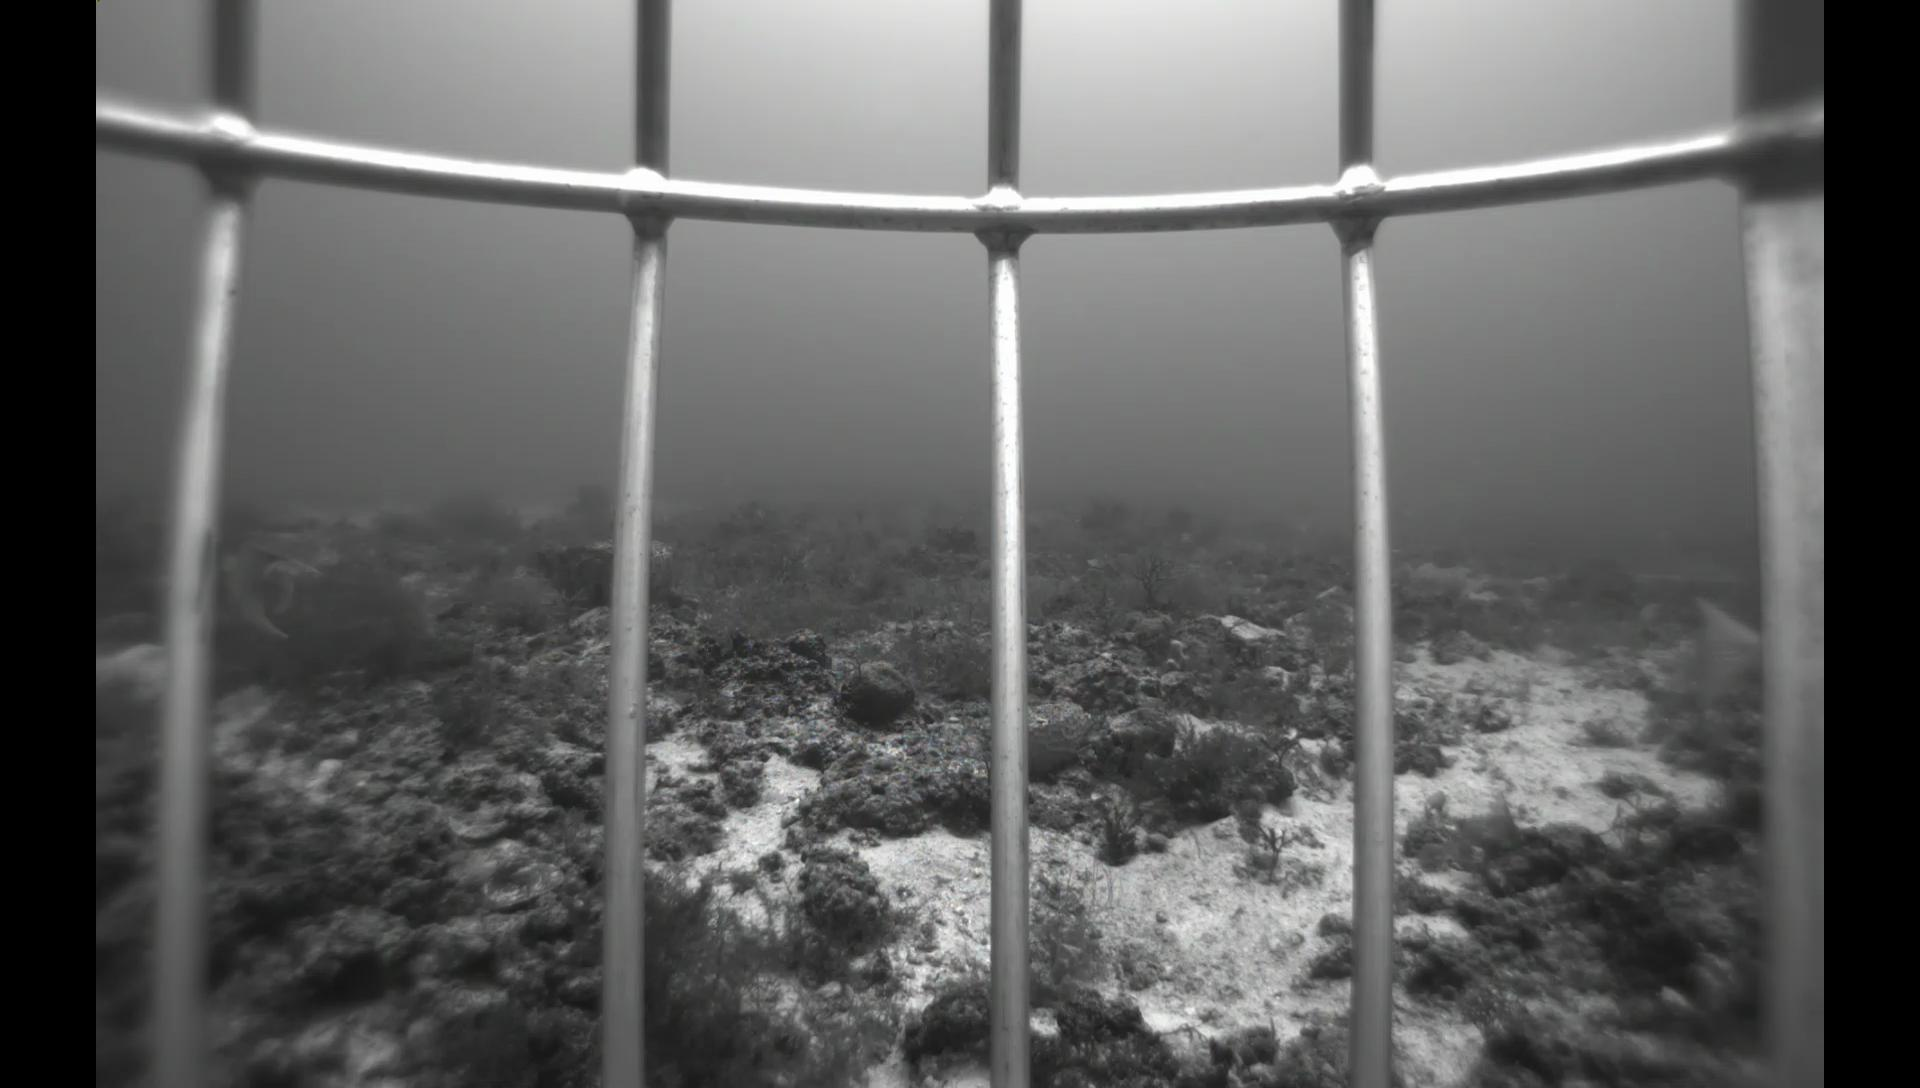HOLACANTHUSBERMUDENSIS-170290102: (216, 537, 334, 650)
LUTJANUSGRISEUS-170151109: (1672, 583, 1764, 723)
MYCTEROPERCAPHENAX-170022105: (851, 509, 894, 554)
